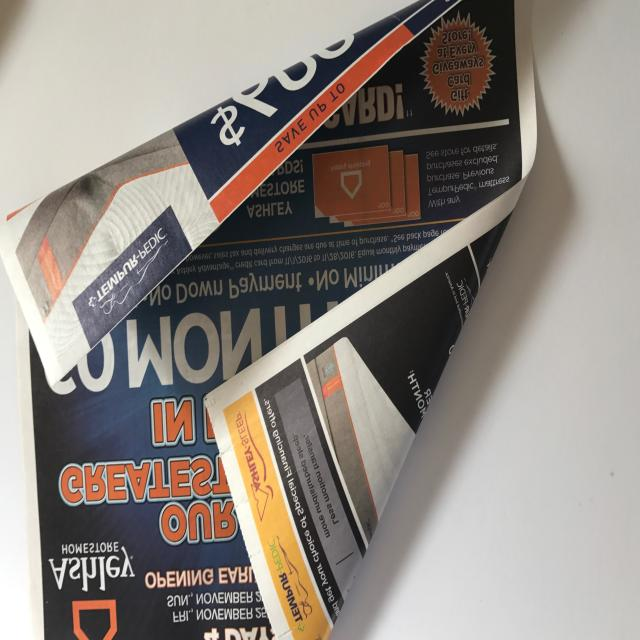paper: (0, 0, 548, 640)
